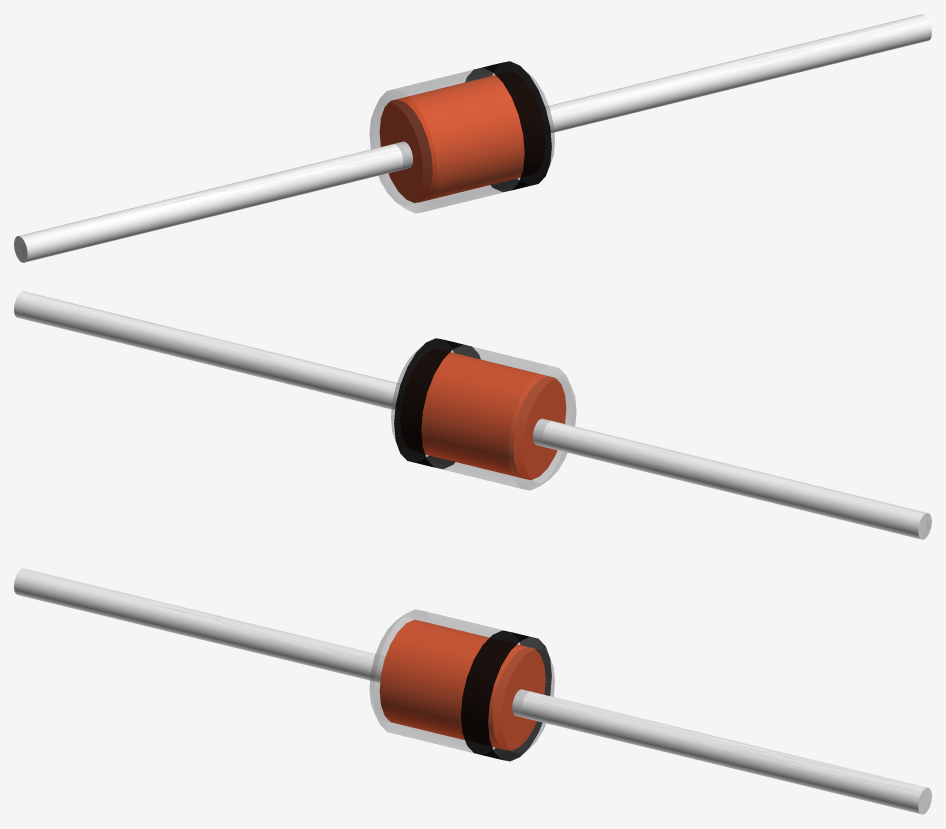
Rendered from zener.fbx.
3 renders of one model, top to bottom at view 1: azimuth 30°, elevation 25°; view 2: azimuth 150°, elevation 25°; view 3: azimuth 330°, elevation 25°, orthographic.
Visible parts, largest first — view 1: sat1, ruot, than; view 2: sat1, ruot, than; view 3: sat1, ruot, than.
Boxes of the visible parts, x1,y1,x2,y2 form: sat1: (14, 14, 931, 262); ruot: (369, 61, 554, 213); than: (379, 75, 524, 202); sat1: (14, 291, 931, 539); ruot: (391, 338, 576, 490); than: (421, 352, 566, 479); sat1: (14, 568, 931, 814); ruot: (369, 609, 554, 761); than: (379, 620, 545, 750).
Size of the model in its own units: 15.76 by 1.93 by 1.93.
Materials: 4 (1 with a texture image).
